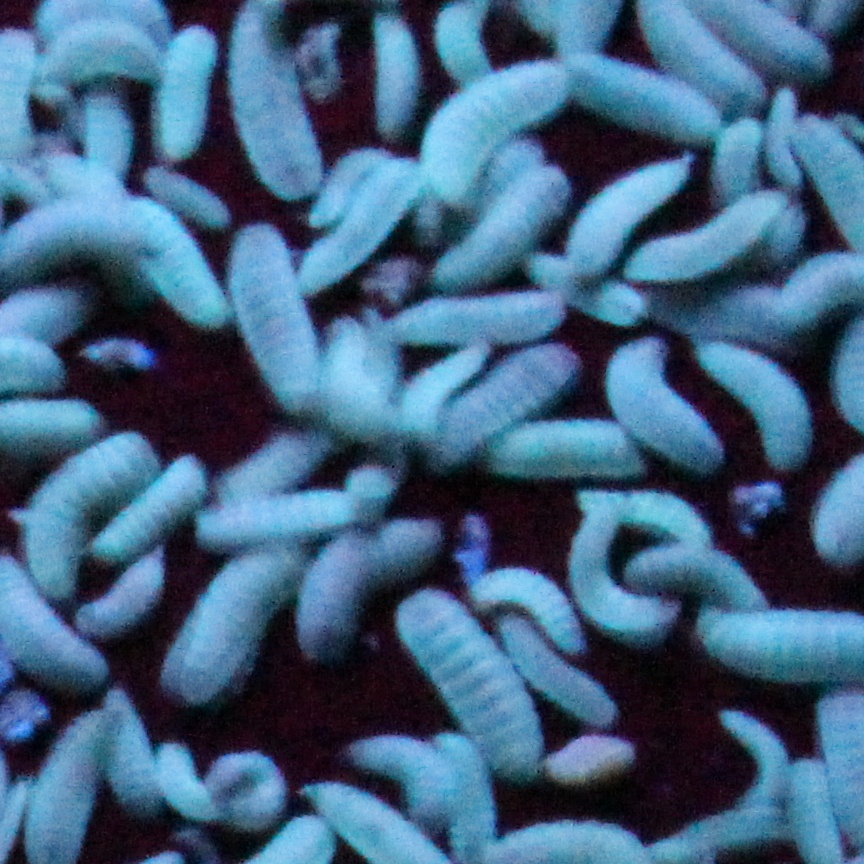larve: (396, 592, 547, 774), (25, 425, 163, 587), (169, 548, 303, 699), (436, 343, 591, 472), (283, 519, 431, 654), (227, 218, 329, 408), (427, 59, 565, 192), (547, 508, 682, 641), (691, 330, 818, 465), (596, 336, 720, 472), (487, 612, 627, 732), (534, 50, 711, 143), (563, 154, 696, 272), (102, 194, 225, 321), (303, 167, 418, 294), (436, 172, 565, 285), (605, 267, 798, 339), (629, 192, 782, 278), (83, 687, 165, 818), (467, 554, 580, 647), (93, 458, 202, 552), (625, 543, 769, 614), (574, 476, 716, 545), (427, 732, 503, 858), (518, 250, 640, 328), (316, 318, 391, 441), (716, 699, 794, 816), (191, 488, 363, 541), (478, 418, 634, 476), (227, 423, 333, 508), (349, 736, 451, 823), (640, 807, 787, 863), (194, 743, 289, 828), (27, 23, 173, 78), (382, 294, 571, 336), (154, 21, 214, 148), (402, 345, 485, 434), (145, 734, 218, 828), (80, 556, 167, 630), (142, 168, 234, 232), (83, 96, 133, 205), (713, 116, 765, 205), (765, 83, 804, 187)
